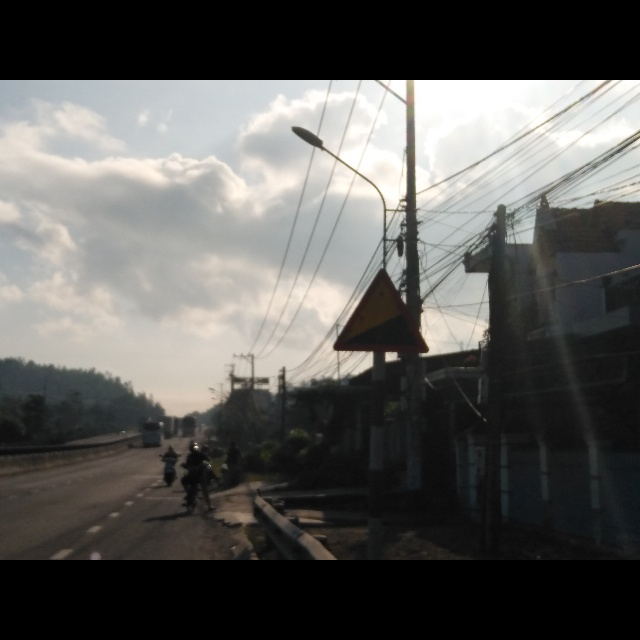Dốc lên nguy hiểm: (331, 268, 429, 352)
